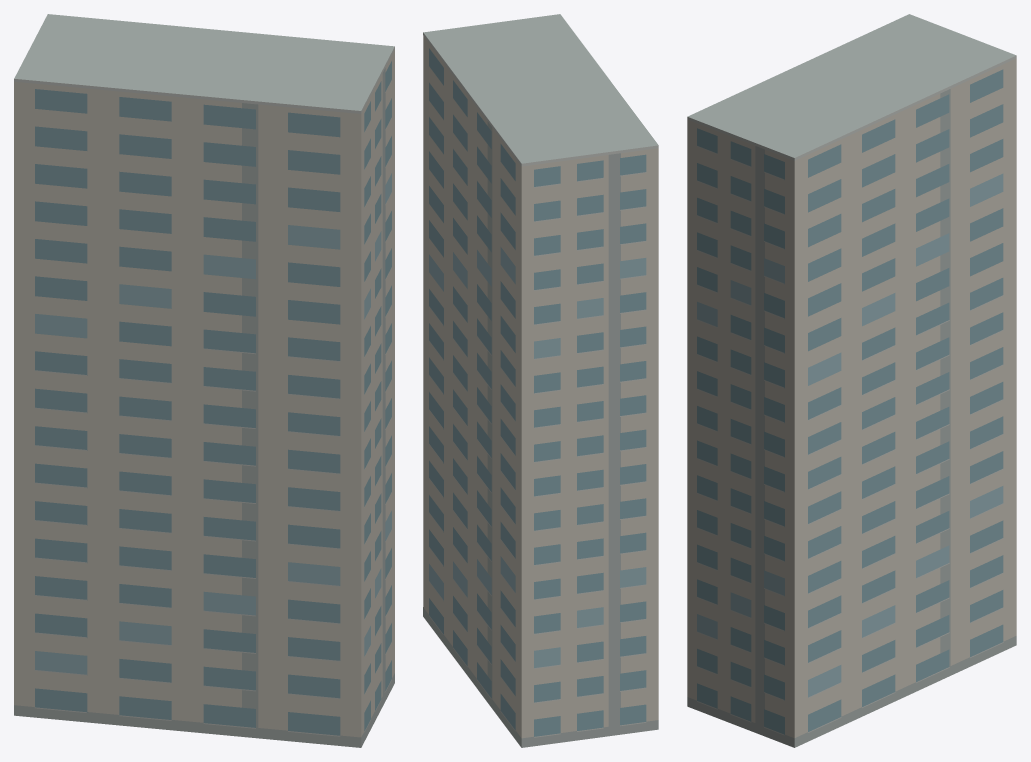
The model's file is residential-2e41e971-564e-4d3d-8ed1-ab980ddf78ef.glb.
The picture shows the model from 3 angles, left to right: view 1: azimuth 30°, elevation 25°; view 2: azimuth 150°, elevation 25°; view 3: azimuth 270°, elevation 25°; orthographic projection. The views are drawn at different scales.
Parts seen in each view (by area): view 1: residential-2e41e971-564e-4d3d-8ed1-ab980ddf78ef.tmp; view 2: residential-2e41e971-564e-4d3d-8ed1-ab980ddf78ef.tmp; view 3: residential-2e41e971-564e-4d3d-8ed1-ab980ddf78ef.tmp.
Part boxes in pixels (left/top/right/bottom): residential-2e41e971-564e-4d3d-8ed1-ab980ddf78ef.tmp: left=14, top=14, right=394, bottom=747; residential-2e41e971-564e-4d3d-8ed1-ab980ddf78ef.tmp: left=423, top=14, right=658, bottom=747; residential-2e41e971-564e-4d3d-8ed1-ab980ddf78ef.tmp: left=687, top=14, right=1016, bottom=747.
Size of the model in its own units: 26.72 by 51 by 25.81.
